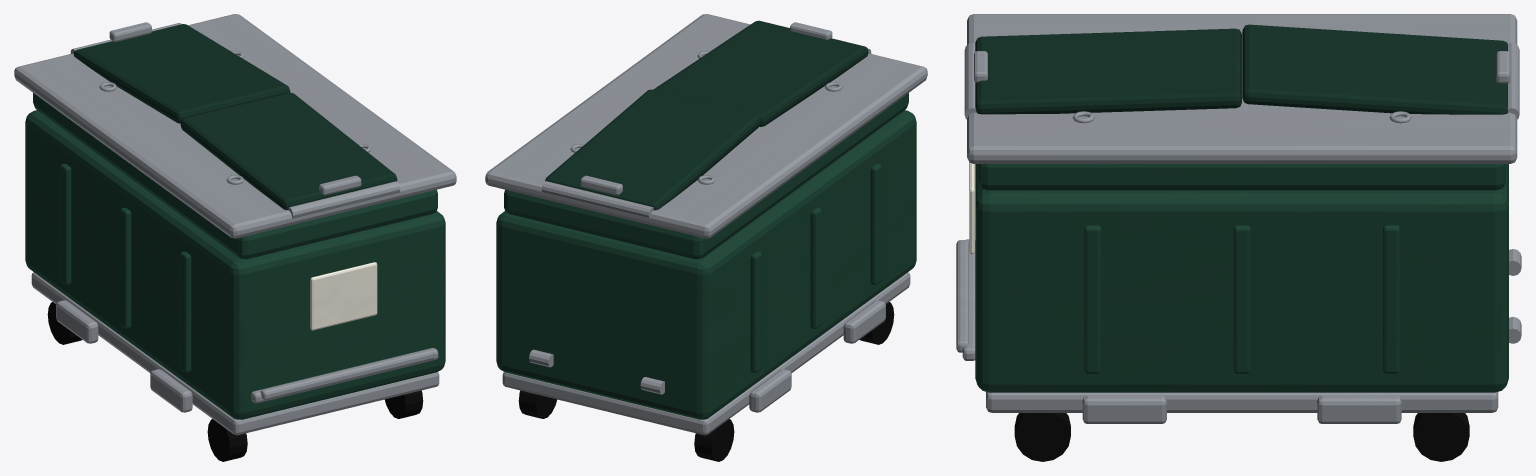
File: prop_dumpster.glb
3 renders of one model, left to right at view 1: azimuth 30°, elevation 25°; view 2: azimuth 150°, elevation 25°; view 3: azimuth 270°, elevation 25°, orthographic. The views are drawn at different scales.
Visible parts, largest first — view 1: prop_dumpster_body, prop_dumpster_rim, prop_dumpster_lid_f, prop_dumpster_lid_b, prop_dumpster_shoulder, prop_dumpster_frame, prop_dumpster_placard, prop_dumpster_latch_bar, prop_dumpster_rib_l_0, prop_dumpster_rib_l_2, prop_dumpster_rib_l_1, prop_dumpster_hinge_f (+8 smaller); view 2: prop_dumpster_body, prop_dumpster_rim, prop_dumpster_lid_b, prop_dumpster_lid_f, prop_dumpster_shoulder, prop_dumpster_frame, prop_dumpster_hinge_b, prop_dumpster_rib_l_0, prop_dumpster_rib_l_2, prop_dumpster_rib_l_1, prop_dumpster_wheel_lb, prop_dumpster_fork_pocket_l_0 (+4 smaller); view 3: prop_dumpster_body, prop_dumpster_rim, prop_dumpster_lid_f, prop_dumpster_lid_b, prop_dumpster_shoulder, prop_dumpster_frame, prop_dumpster_rib_r_0, prop_dumpster_rib_r_1, prop_dumpster_rib_r_2, prop_dumpster_fork_pocket_r_1, prop_dumpster_fork_pocket_r_0, prop_dumpster_wheel_rb (+5 smaller).
Boxes of the visible parts, x1,y1,x2,y2 form: prop_dumpster_body: [25, 110, 445, 419]; prop_dumpster_rim: [14, 14, 456, 238]; prop_dumpster_lid_f: [180, 92, 397, 210]; prop_dumpster_lid_b: [73, 24, 290, 123]; prop_dumpster_shoulder: [33, 93, 437, 259]; prop_dumpster_frame: [31, 272, 439, 435]; prop_dumpster_placard: [310, 262, 377, 330]; prop_dumpster_latch_bar: [260, 349, 434, 400]; prop_dumpster_rib_l_0: [180, 251, 191, 372]; prop_dumpster_rib_l_2: [60, 164, 71, 284]; prop_dumpster_rib_l_1: [120, 207, 131, 328]; prop_dumpster_hinge_f: [288, 181, 400, 218]; prop_dumpster_body: [496, 110, 916, 419]; prop_dumpster_rim: [485, 14, 927, 238]; prop_dumpster_lid_b: [545, 89, 761, 210]; prop_dumpster_lid_f: [654, 20, 868, 126]; prop_dumpster_shoulder: [504, 93, 908, 259]; prop_dumpster_frame: [502, 272, 910, 435]; prop_dumpster_hinge_b: [541, 181, 653, 218]; prop_dumpster_rib_l_0: [870, 164, 881, 284]; prop_dumpster_rib_l_2: [750, 251, 761, 372]; prop_dumpster_rib_l_1: [810, 207, 821, 328]; prop_dumpster_wheel_lb: [694, 419, 734, 461]; prop_dumpster_fork_pocket_l_0: [843, 300, 885, 343]; prop_dumpster_body: [975, 164, 1508, 392]; prop_dumpster_rim: [967, 14, 1517, 163]; prop_dumpster_lid_f: [975, 28, 1241, 114]; prop_dumpster_lid_b: [1242, 24, 1507, 114]; prop_dumpster_shoulder: [978, 164, 1506, 190]; prop_dumpster_frame: [986, 391, 1498, 412]; prop_dumpster_rib_r_0: [1084, 225, 1101, 373]; prop_dumpster_rib_r_1: [1233, 225, 1250, 373]; prop_dumpster_rib_r_2: [1383, 225, 1399, 373]; prop_dumpster_fork_pocket_r_1: [1317, 395, 1401, 423]; prop_dumpster_fork_pocket_r_0: [1082, 395, 1166, 423]; prop_dumpster_wheel_rb: [1413, 413, 1469, 461].
Bounding box in the file's own units: 1.2 × 1.36 × 2.01.
5 materials, 5 textured.
